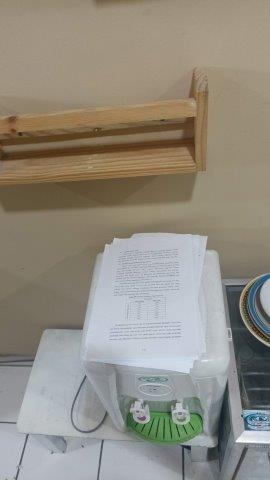kertas: (84, 232, 215, 375)
